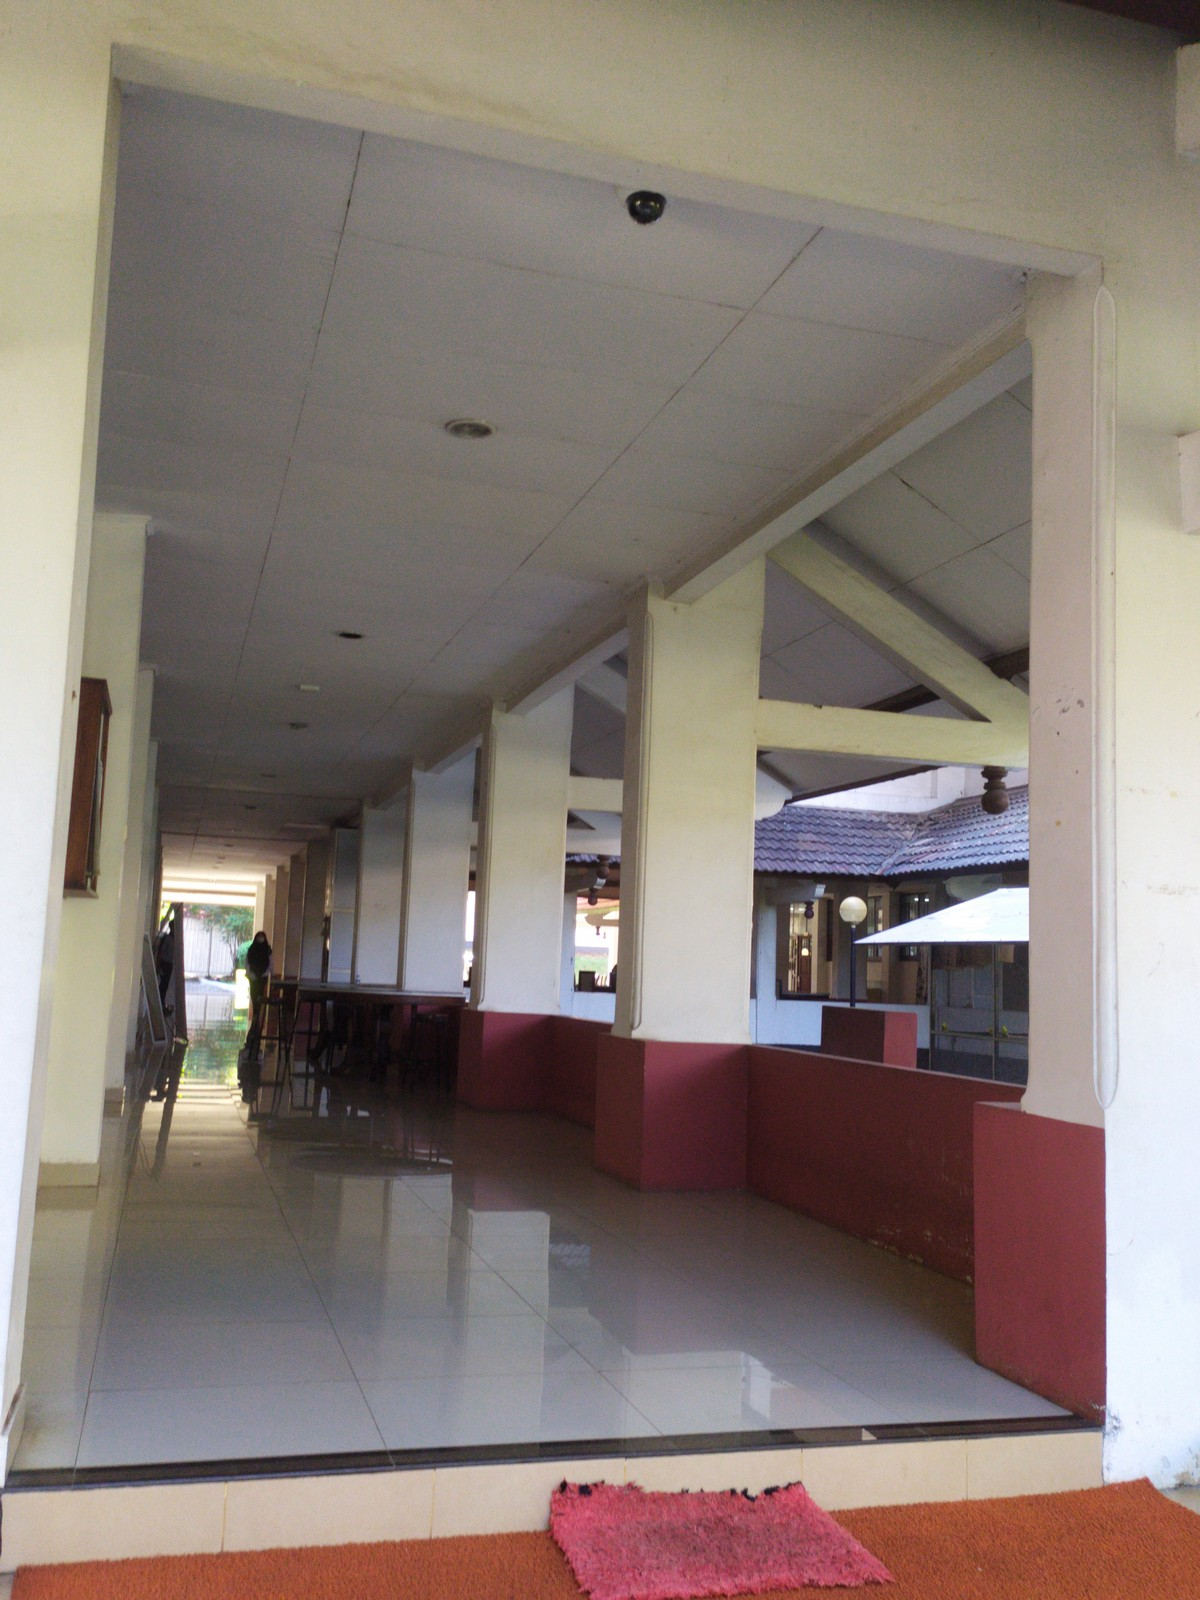concrete beam: (773, 534, 996, 711), (746, 689, 1018, 787)
concrete column: (613, 586, 770, 1179), (473, 694, 577, 1089), (391, 762, 473, 1060)
